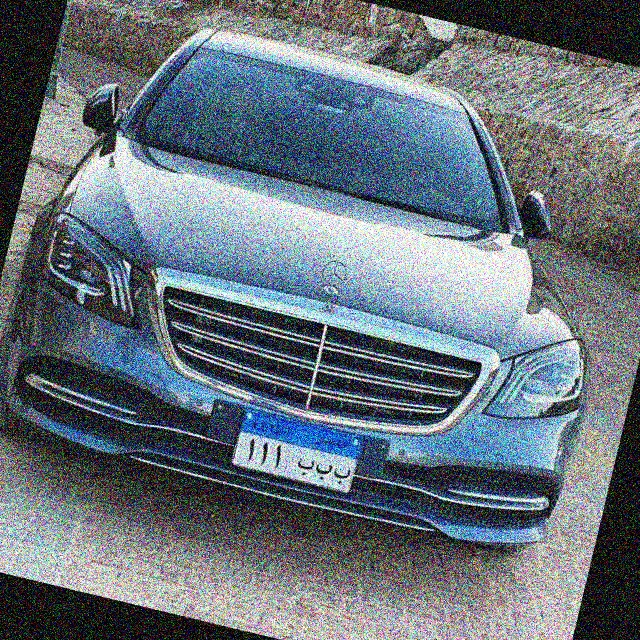License Plate: (227, 406, 368, 498)
